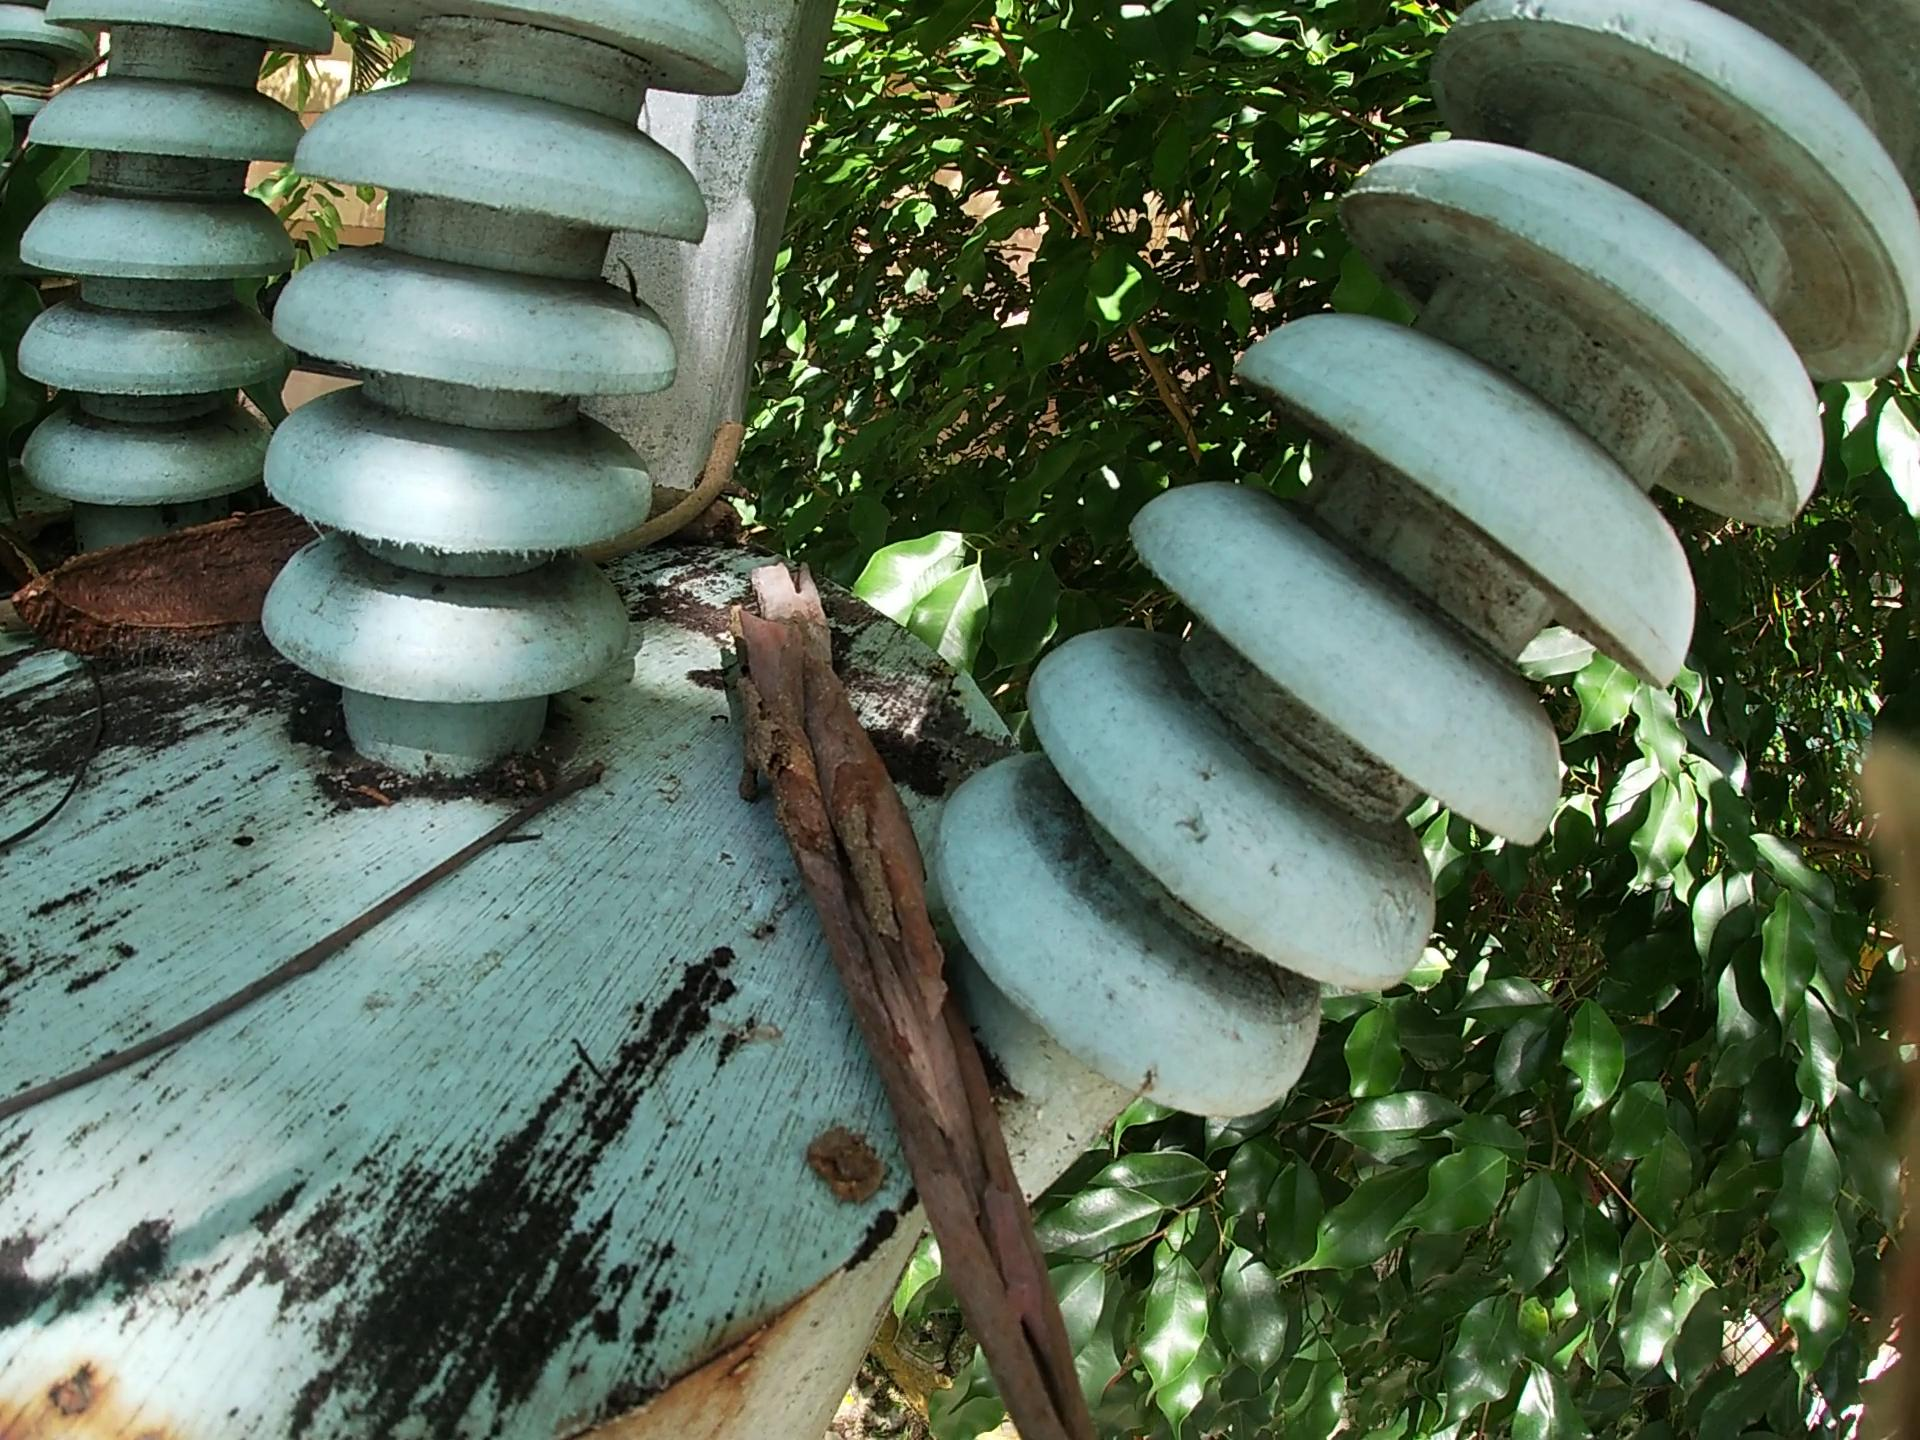branch with leaves: (2, 42, 175, 486)
mahogany fruit: (11, 496, 355, 684)
tree branch: (714, 534, 1132, 1440), (2, 750, 629, 1118), (2, 644, 125, 879), (582, 417, 776, 567), (626, 469, 760, 535)
